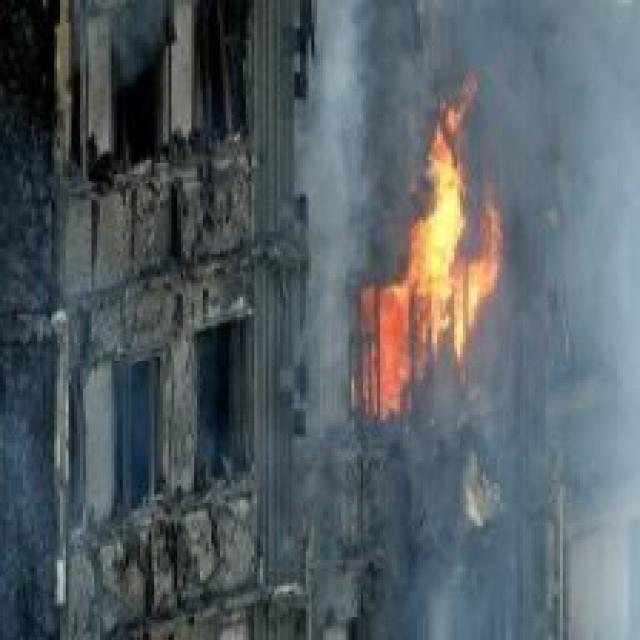fire: (351, 80, 523, 414)
